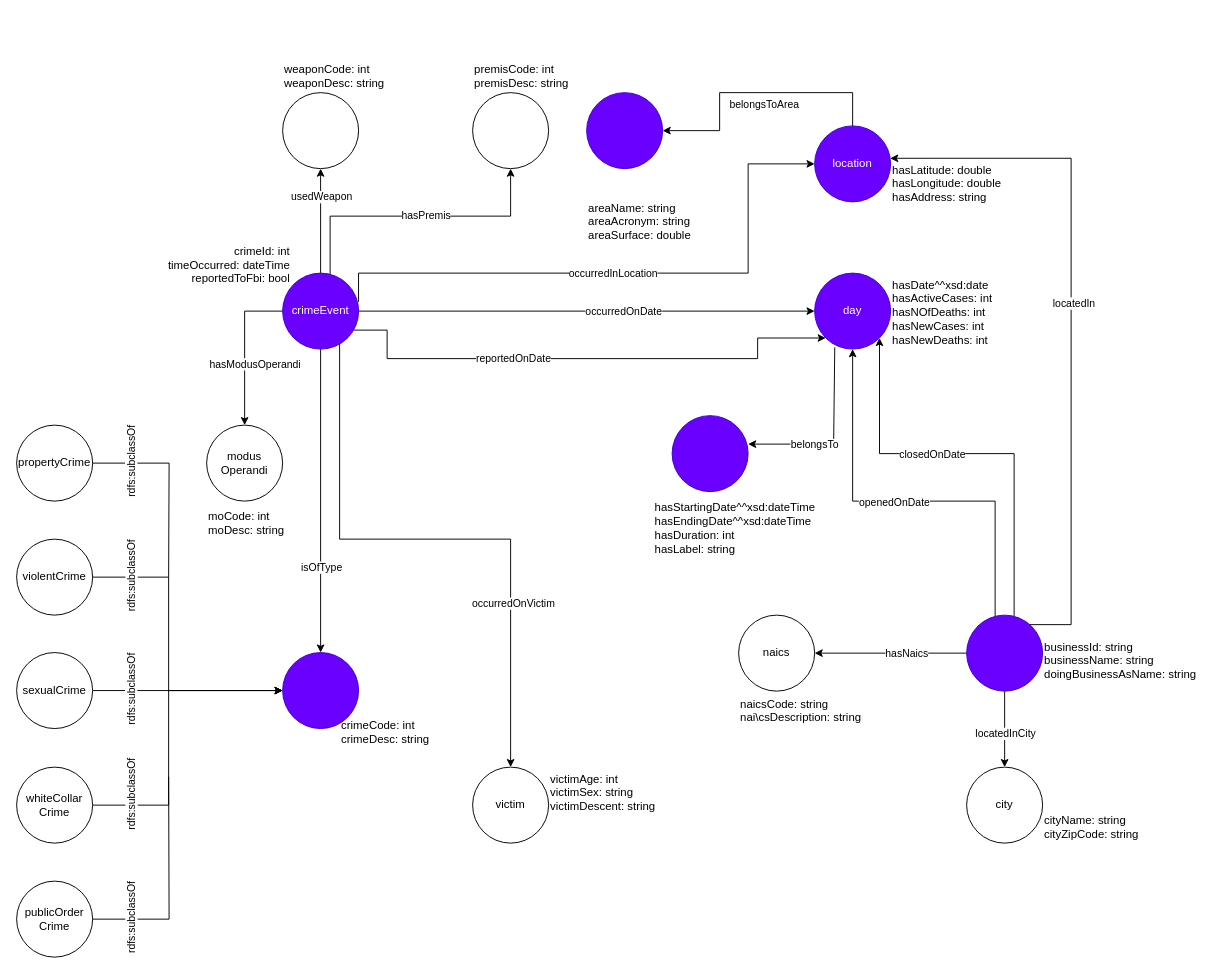
The diagram is 1230 pixels wide and 974 high, and some of its shapes have lost their labels. Here are the shapes that lost their labels. From the top down, the centre of each, then its label:
(320,130): weapon
(510,130): premis
(624,130): Area
(709,453): period
(1004,652): business
(320,690): crime
